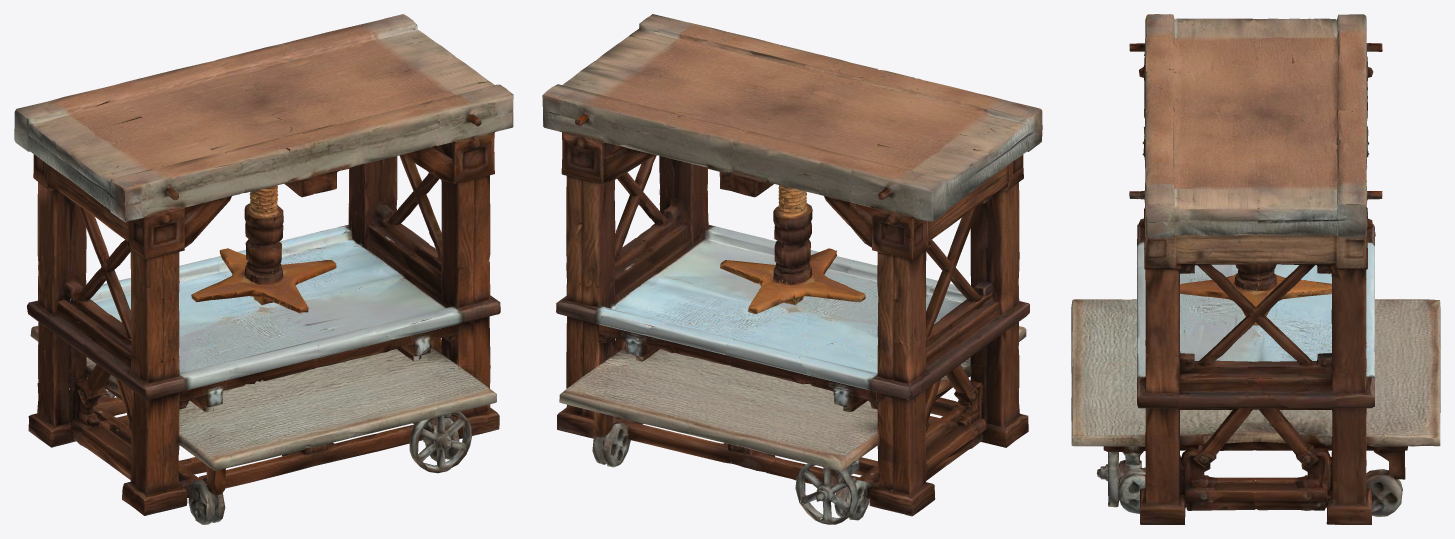
File: press-common.glb
The picture shows the model from 3 angles, left to right: view 1: azimuth 30°, elevation 25°; view 2: azimuth 150°, elevation 25°; view 3: azimuth 270°, elevation 25°; orthographic projection.
Visible parts, largest first — view 1: Mesh_0; view 2: Mesh_0; view 3: Mesh_0.
Part boxes in pixels (bbox=[...]): Mesh_0: bbox=[14, 14, 513, 524]; Mesh_0: bbox=[542, 14, 1042, 524]; Mesh_0: bbox=[1071, 14, 1440, 524].
Size of the model in its own units: 1.91 by 1.62 by 1.56.
Materials: 1 (1 with a texture image).
